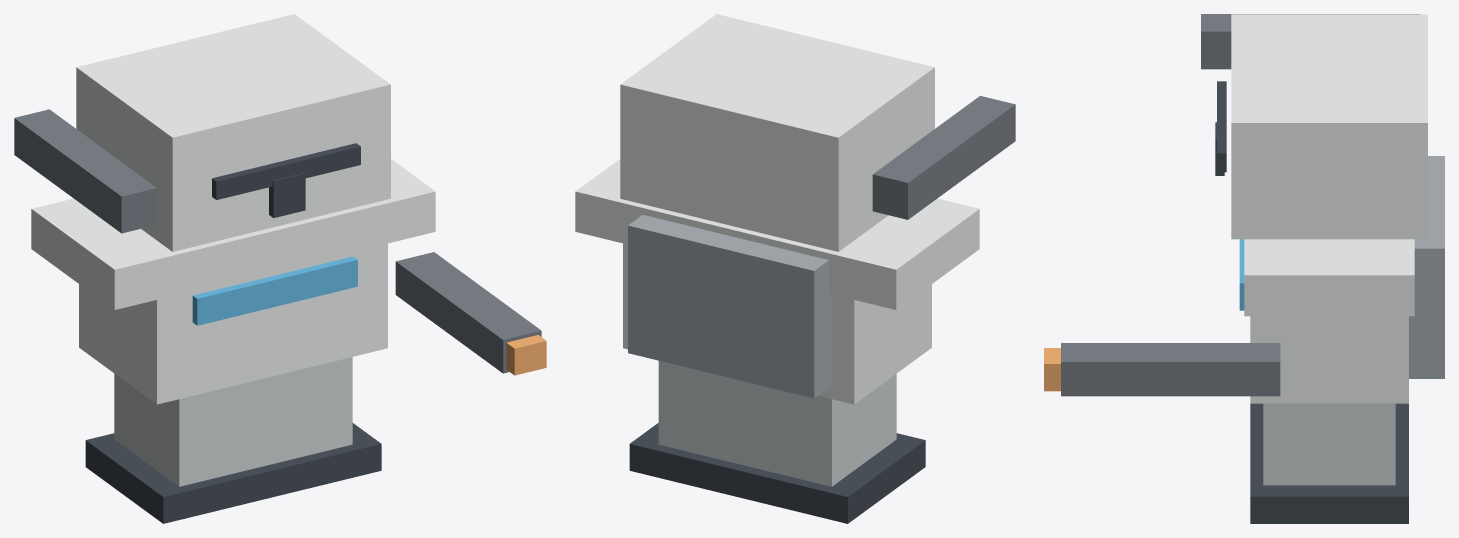
File: cubecraft_clone_heavy_01.glb
The picture shows the model from 3 angles, left to right: view 1: azimuth 30°, elevation 25°; view 2: azimuth 150°, elevation 25°; view 3: azimuth 270°, elevation 25°; orthographic projection. The views are drawn at different scales.
Visible parts, largest first — view 1: helmet, torso, wide_shoulders, legs, boots, launcher_tube, heavy_blaster, blue_band, visor, visor_drop, muzzle; view 2: helmet, launcher_pack, legs, wide_shoulders, boots, launcher_tube, torso; view 3: helmet, wide_shoulders, torso, heavy_blaster, legs, boots, launcher_pack, launcher_tube, visor, muzzle.
Part boxes in pixels (x1,y1,x2,y2): helmet: (76, 14, 390, 251); torso: (79, 243, 387, 404); wide_shoulders: (31, 159, 435, 309); legs: (114, 357, 352, 486); boots: (85, 423, 381, 523); launcher_tube: (14, 109, 156, 233); heavy_blaster: (395, 252, 541, 373); blue_band: (192, 256, 357, 325); visor: (212, 143, 360, 199); visor_drop: (269, 173, 305, 218); muzzle: (506, 335, 546, 375); helmet: (620, 14, 934, 251); launcher_pack: (628, 215, 831, 398); legs: (658, 361, 896, 486); wide_shoulders: (575, 159, 979, 309); boots: (629, 423, 925, 523); launcher_tube: (872, 95, 1015, 219); torso: (623, 243, 931, 404); helmet: (1231, 14, 1427, 239); wide_shoulders: (1244, 239, 1414, 316); torso: (1250, 316, 1408, 403); heavy_blaster: (1061, 343, 1280, 396); legs: (1263, 403, 1395, 485); boots: (1250, 403, 1408, 523); launcher_pack: (1409, 156, 1444, 378); launcher_tube: (1201, 14, 1419, 69); visor: (1217, 81, 1226, 172); muzzle: (1044, 348, 1060, 391).
Bounding box in the file's own units: 10.95 × 11.7 × 10.6.
